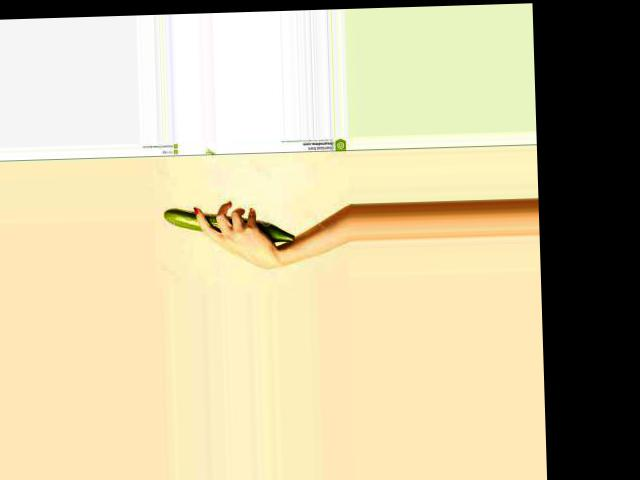cucumber: (164, 204, 296, 245)
